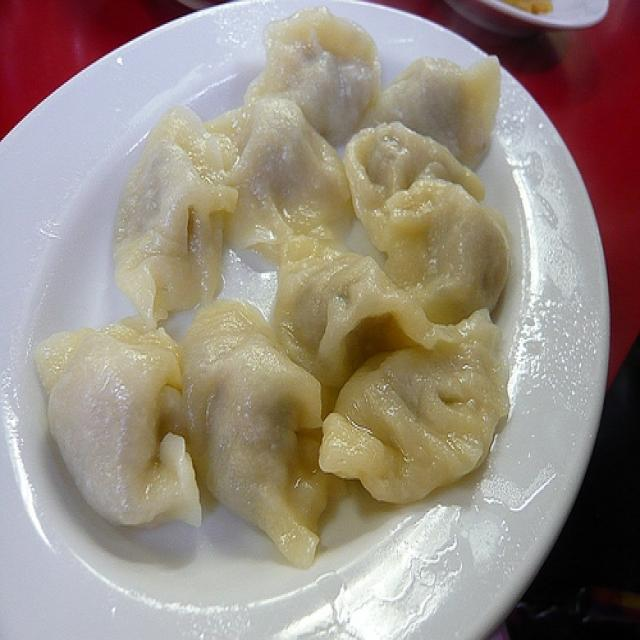带馅早点: (58, 36, 524, 578)
